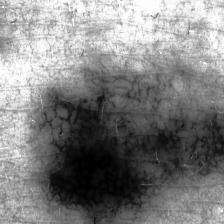Benign Marking or Mole: (50, 102, 145, 214)
